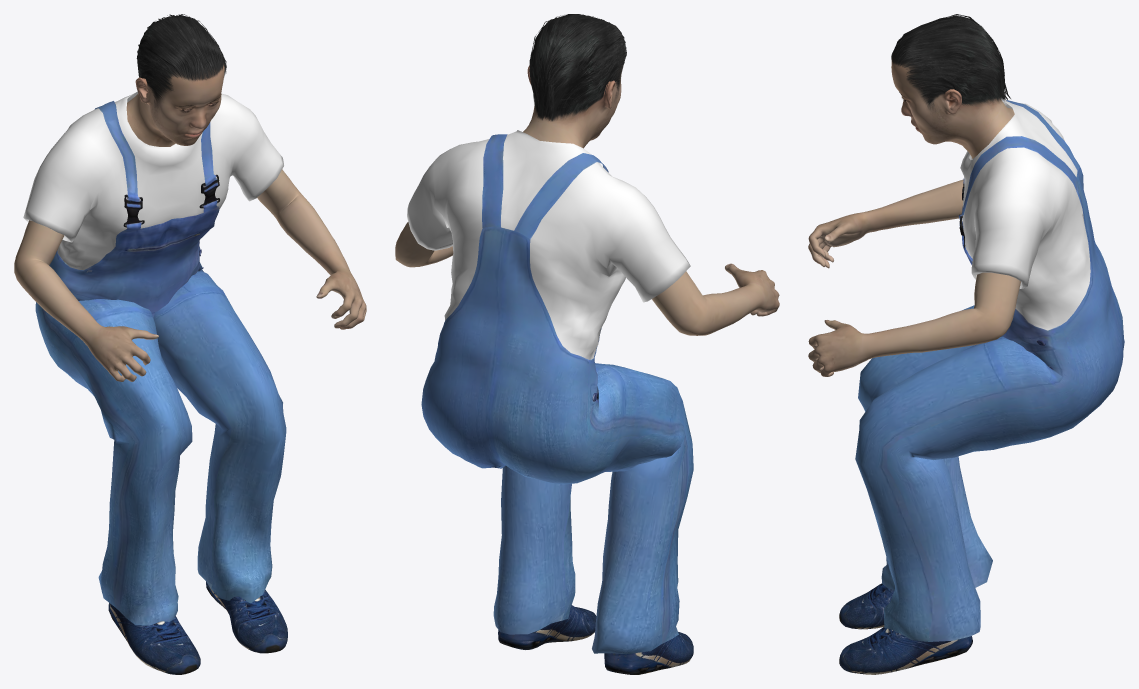
File: uomo-04.glb
The picture shows the model from 3 angles, left to right: view 1: azimuth 30°, elevation 25°; view 2: azimuth 150°, elevation 25°; view 3: azimuth 270°, elevation 25°; orthographic projection. The views are drawn at different scales.
Visible parts, largest first — view 1: Human.male_worksuit01, Human, Human.shoes06, Human.short04; view 2: Human.male_worksuit01, Human, Human.short04, Human.shoes06; view 3: Human.male_worksuit01, Human, Human.short04, Human.shoes06.
Part boxes in pixels (x1=…): Human.male_worksuit01: x1=23, y1=91, x2=286, y2=625; Human: x1=14, y1=64, x2=366, y2=381; Human.shoes06: x1=108, y1=581, x2=287, y2=674; Human.short04: x1=136, y1=14, x2=226, y2=107; Human.male_worksuit01: x1=407, y1=130, x2=693, y2=654; Human: x1=395, y1=65, x2=779, y2=335; Human.short04: x1=529, y1=14, x2=626, y2=121; Human.shoes06: x1=498, y1=605, x2=693, y2=674; Human.male_worksuit01: x1=855, y1=100, x2=1124, y2=641; Human: x1=808, y1=59, x2=1020, y2=376; Human.short04: x1=891, y1=14, x2=1010, y2=110; Human.shoes06: x1=839, y1=583, x2=972, y2=674.
Bounding box in the file's own units: 0.6724 × 1.35 × 0.6202.
12 materials, 12 textured.
